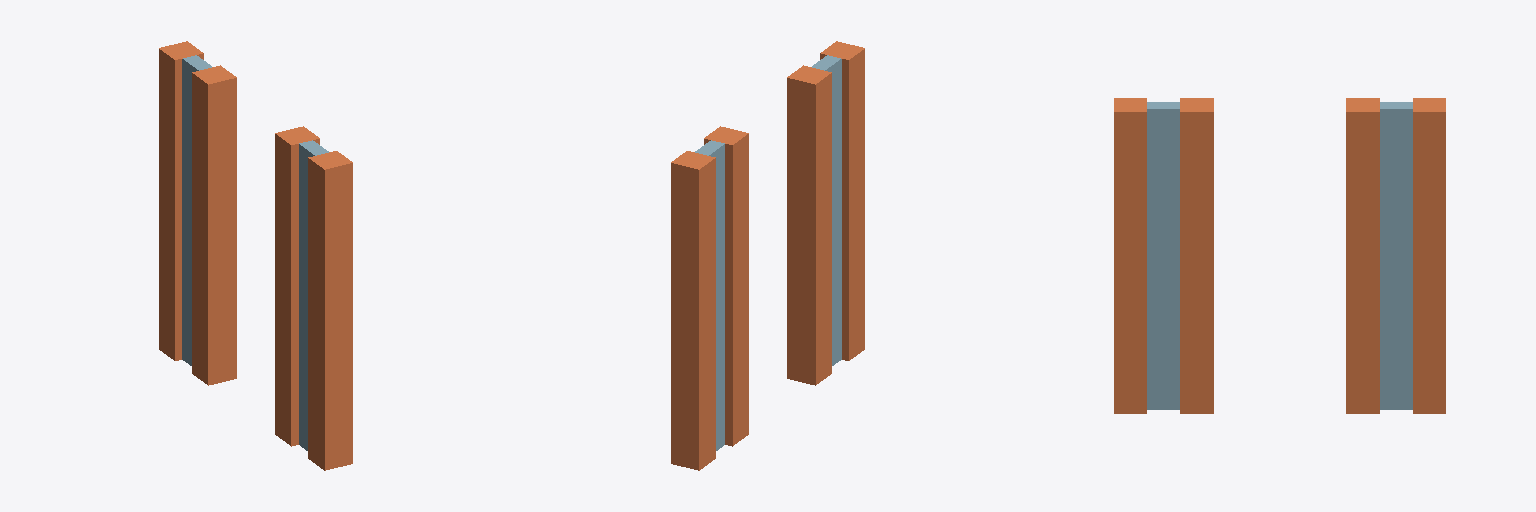
Rendered from wallDoorwayBase.obj.
The picture shows the model from 3 angles: view 1: azimuth 30°, elevation 25°; view 2: azimuth 150°, elevation 25°; view 3: azimuth 270°, elevation 25°; orthographic projection.
Parts seen in each view (by area): view 1: wallDoorwayBase; view 2: wallDoorwayBase; view 3: wallDoorwayBase.
Boxes of the visible parts, box(x1,y1,x2,y2) form: wallDoorwayBase: box(159, 41, 352, 470); wallDoorwayBase: box(671, 41, 864, 470); wallDoorwayBase: box(1114, 98, 1445, 413).
Bounding box in the file's own units: 0.1 × 1 × 1.